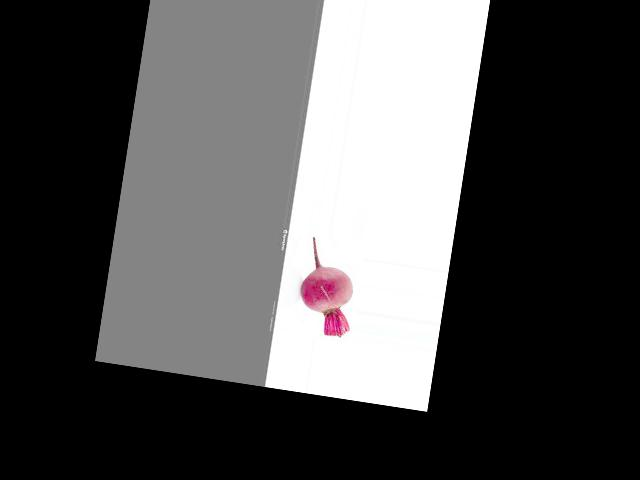beet: (294, 236, 362, 339)
